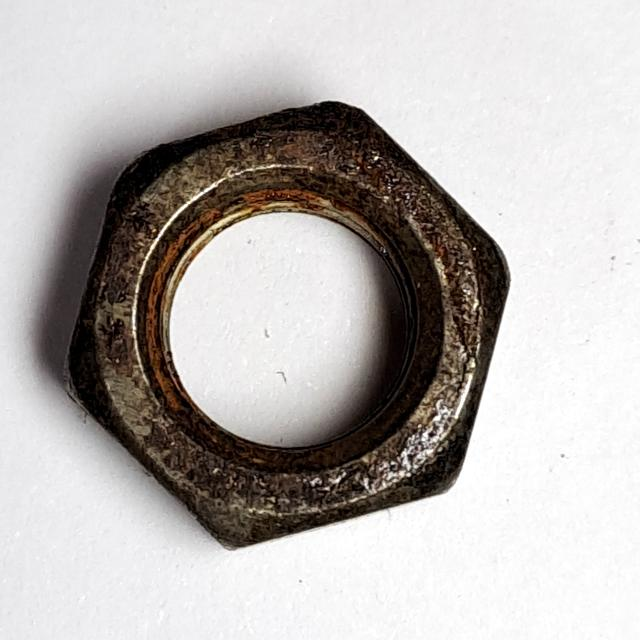Rust: (55, 90, 516, 566)
